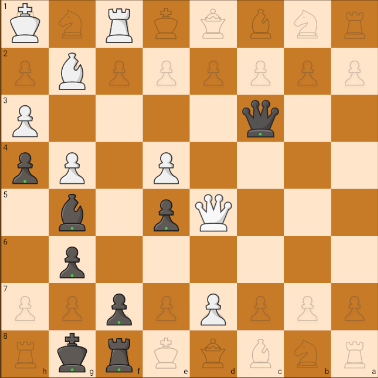bb: (50, 190, 94, 235)
bk: (49, 329, 93, 376)
bp: (99, 287, 143, 330), (6, 147, 44, 187), (149, 195, 185, 234), (57, 242, 89, 281)
bq: (238, 97, 283, 138)
br: (99, 334, 140, 373)
wb: (50, 48, 96, 94)
wk: (3, 3, 47, 48)
wp: (3, 97, 44, 140), (51, 146, 94, 187), (192, 287, 231, 329), (148, 149, 185, 185)
wq: (194, 190, 234, 235)
wr: (100, 5, 140, 47)
